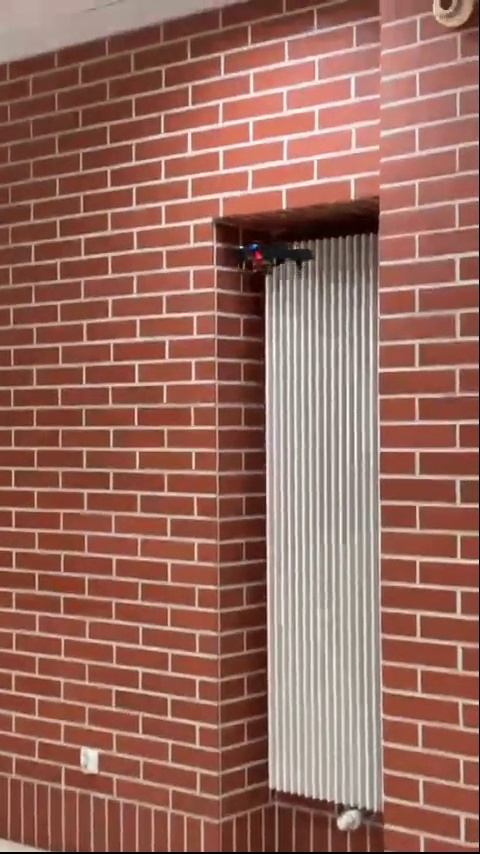drone: (225, 241, 320, 273)
